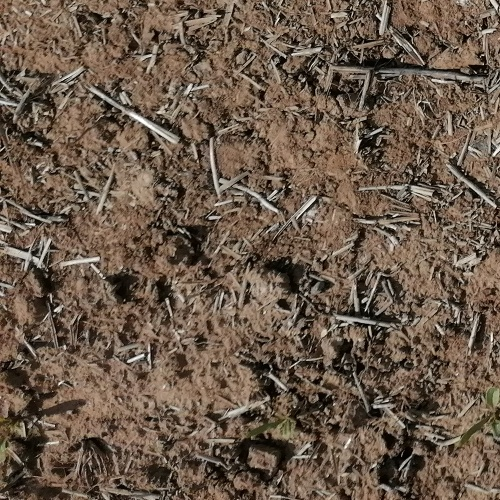beet: (459, 389, 500, 446), (247, 411, 300, 441)
